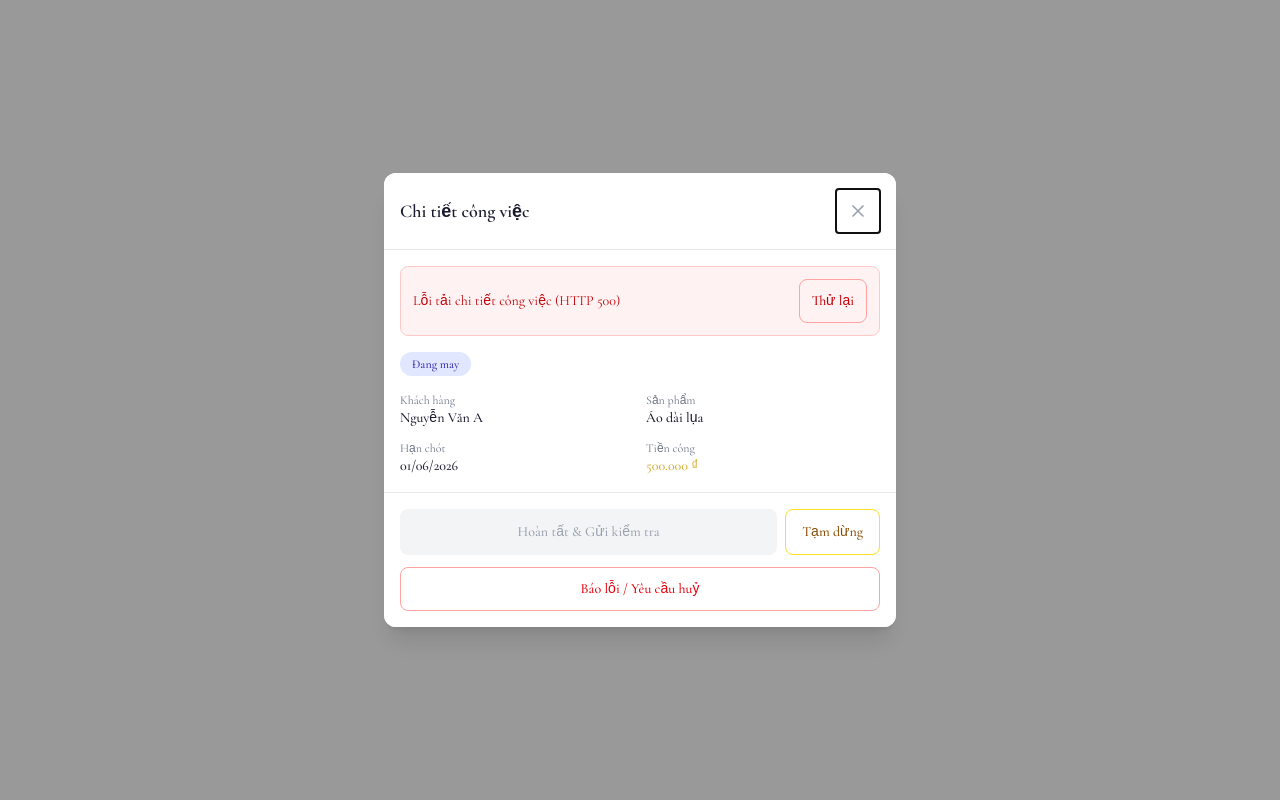
it: TaskDetailModal - actions & stage progress (Story 12.5) › shows retry button when detail load fails and retries on click
This screenshot has width=1280, height=800.
Check: the text "Lỗi tải chi tiết công việc (HTTP 500)" is shown, box [413,291,620,311]
Click the button with test id "task-detail-retry-btn".
click(833, 301)  # box [799,279,867,323]
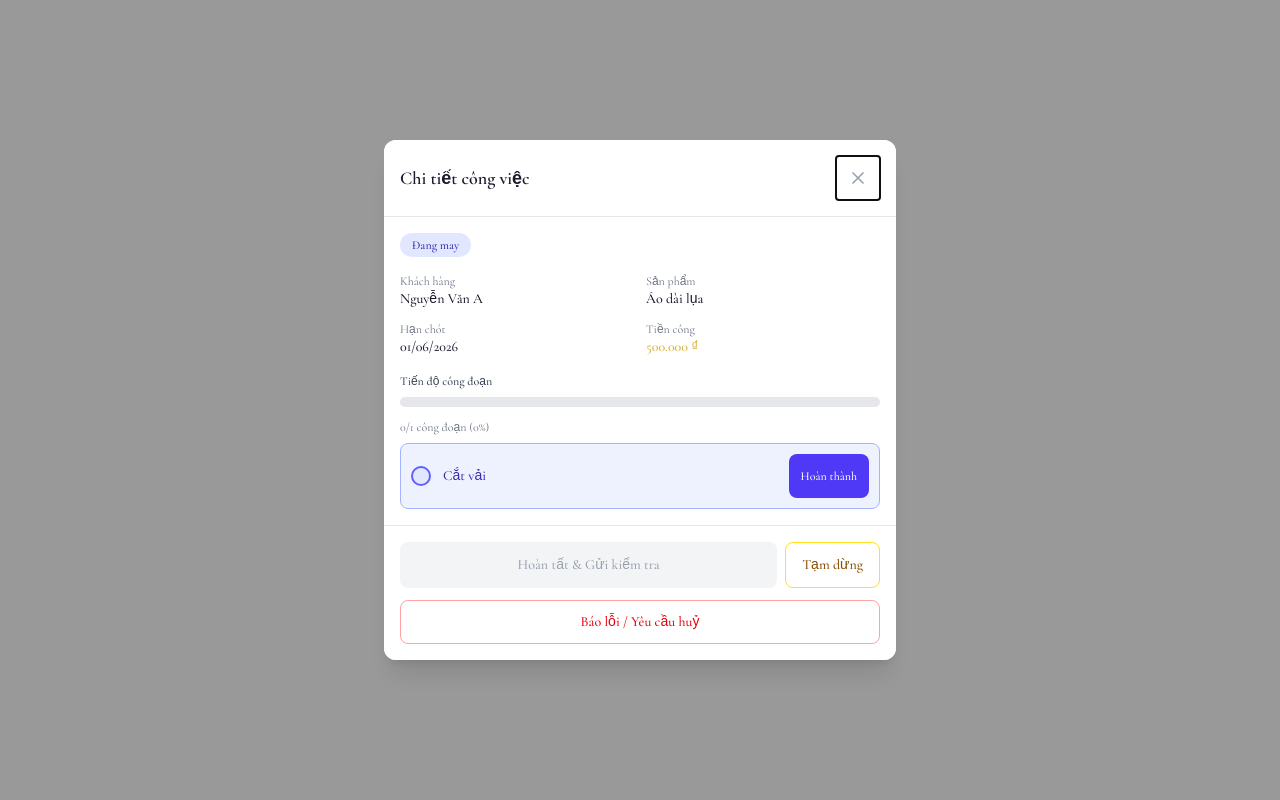
Check: the text "Tiến độ công đoạn" is shown, box [400,374,492,388]
